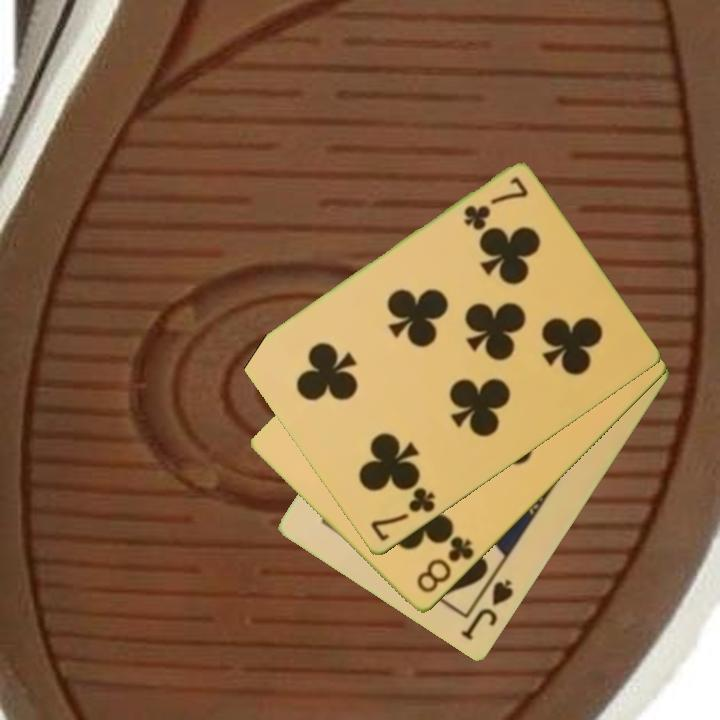7c: (366, 484, 438, 545), (460, 174, 531, 234)
8c: (412, 532, 477, 597)
Js: (457, 576, 517, 644)
